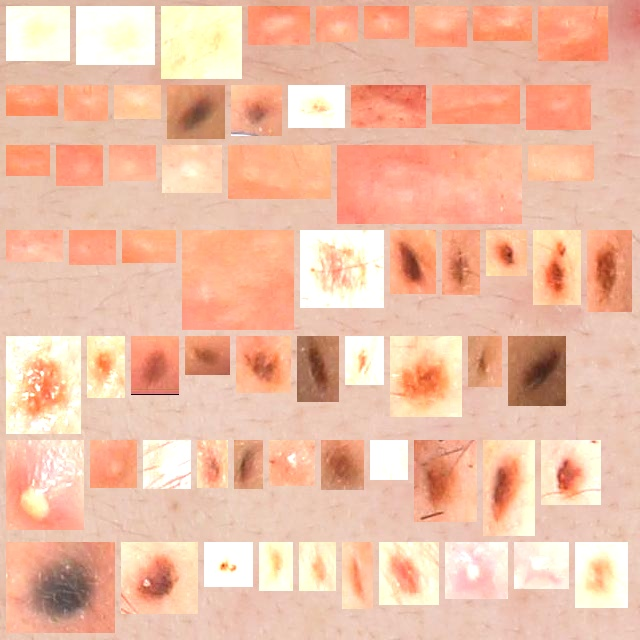hypertrophic_scar: (345, 153, 514, 216), (190, 238, 286, 322), (236, 153, 323, 191), (546, 14, 600, 53), (440, 93, 512, 116), (359, 93, 418, 120), (534, 93, 583, 122), (170, 153, 214, 185), (256, 14, 302, 37), (536, 153, 586, 173), (423, 14, 459, 39), (481, 14, 524, 33), (64, 153, 95, 178), (14, 238, 55, 254), (130, 238, 168, 255), (117, 153, 148, 173), (77, 238, 108, 257), (72, 93, 100, 113), (122, 93, 153, 111), (14, 93, 50, 108), (324, 14, 350, 34), (372, 14, 401, 31), (14, 153, 42, 168)
melasma: (169, 14, 234, 71), (84, 14, 147, 57), (14, 14, 62, 53)
nevus: (14, 550, 107, 625), (14, 344, 73, 426), (308, 238, 376, 300), (398, 344, 454, 409), (129, 550, 190, 606), (422, 448, 469, 514), (491, 448, 527, 528), (516, 344, 558, 398), (549, 448, 593, 497), (387, 550, 431, 597), (595, 238, 624, 304), (541, 238, 573, 297), (583, 550, 620, 600), (244, 344, 283, 385), (175, 93, 217, 131), (398, 238, 428, 286), (139, 344, 171, 387), (305, 344, 331, 394), (239, 93, 274, 128), (296, 93, 337, 120), (450, 238, 472, 287), (95, 344, 117, 390), (212, 550, 245, 579), (329, 448, 356, 482), (350, 550, 365, 601), (353, 344, 376, 377), (494, 238, 519, 268), (307, 550, 328, 583), (193, 344, 222, 367), (476, 344, 494, 379), (267, 550, 285, 583), (205, 448, 220, 480), (242, 448, 255, 481)
pustule: (14, 448, 76, 522), (453, 550, 500, 591), (522, 550, 561, 581), (151, 448, 183, 481), (98, 448, 129, 480), (277, 448, 307, 478), (378, 448, 400, 472)
